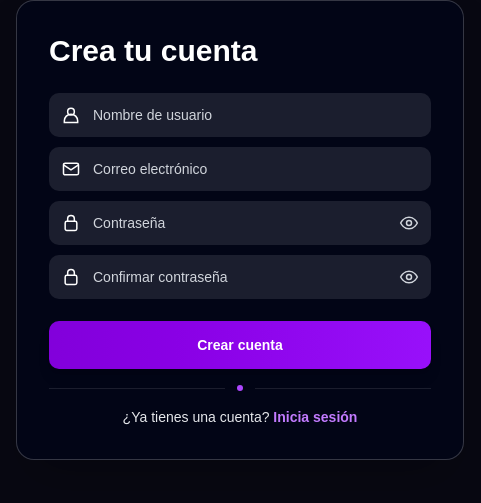
Test: RegisterForm › should disable the submit button while loading
Type "testuser" into the field labelled "Nombre de usuario".
click(256, 115); type("testuser")  # box [93,93,419,137]
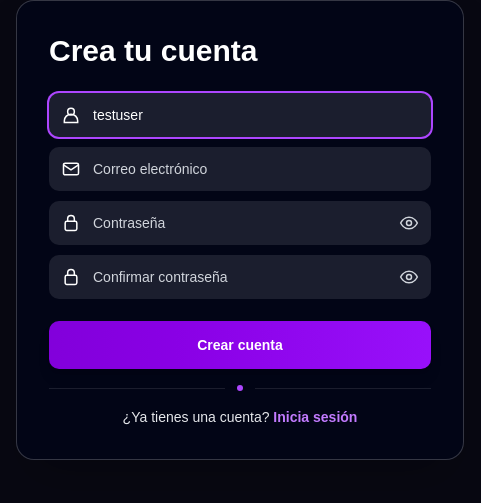
Type "usuario@gmail.com" into the field labelled "Correo electrónico".
click(256, 169); type("usuario@gmail.com")  # box [93,147,419,191]
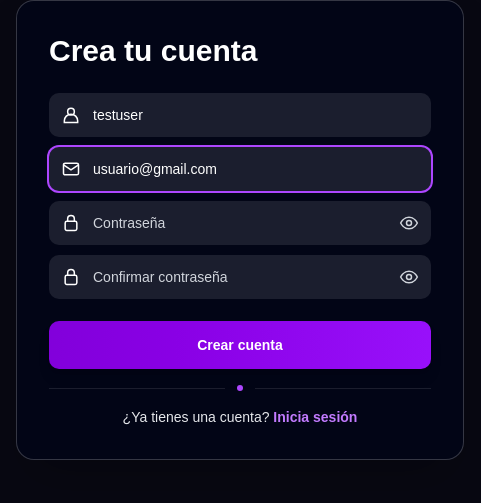
Type "Password123" into the password field labelled "Contraseña".
click(240, 223); type("Password123")  # box [93,201,387,245]
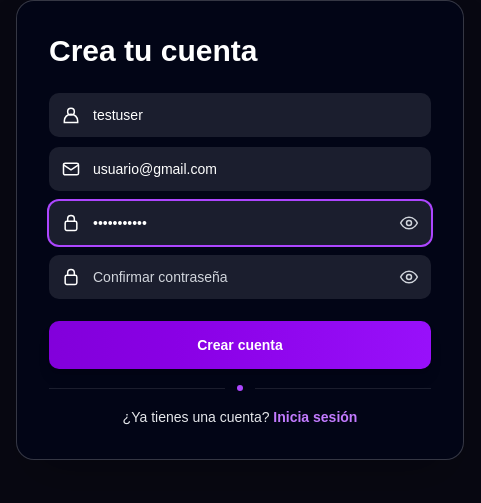
Type "Password123" into the password field labelled "Confirmar contraseña".
click(240, 277); type("Password123")  # box [93,255,387,299]
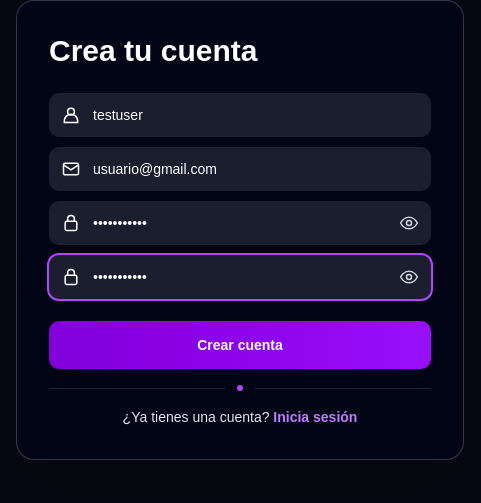
Click the button "Crear cuenta".
click(240, 345)  # box [49,321,431,369]
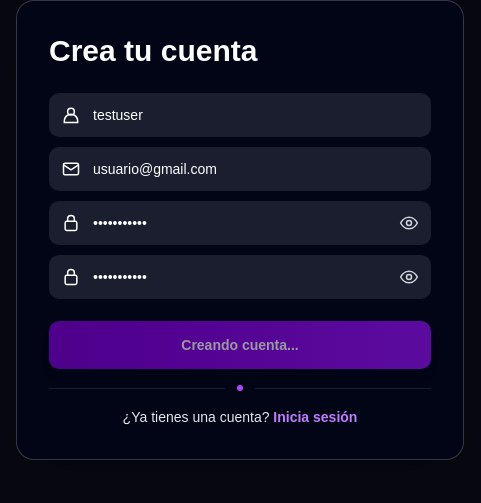
Check: the button named "Crear cuenta" is disabled
Check: the button named "Crear cuenta" reads "Creando cuenta..."
Click the button named "Crear cuenta".
click(240, 345)  # box [49,321,431,369]
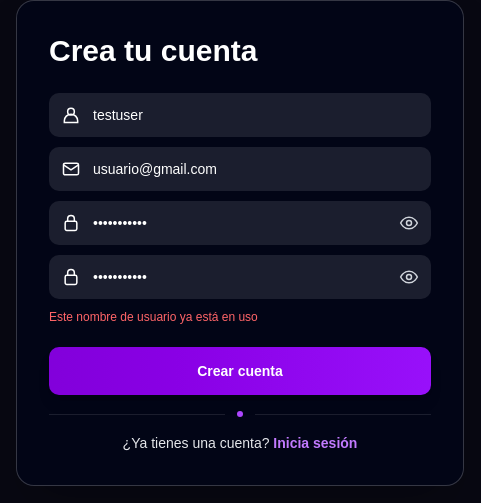
Check: the button "Crear cuenta" is enabled, box [49,347,431,395]
Check: the button "Crear cuenta" is shown, box [49,347,431,395]
